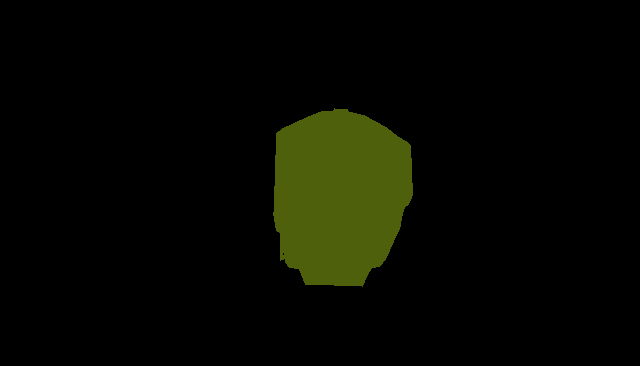Train: (273, 108, 412, 286)
